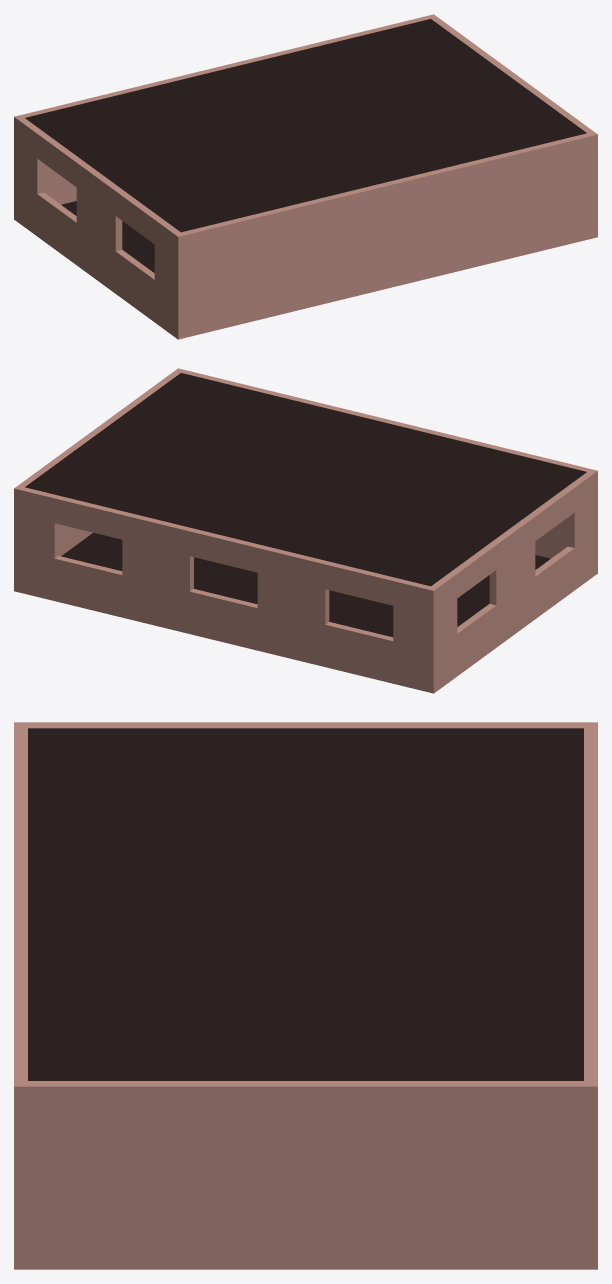
File: Room[JOINED].fbx
The picture shows the model from 3 angles, top to bottom: view 1: azimuth 30°, elevation 25°; view 2: azimuth 150°, elevation 25°; view 3: azimuth 270°, elevation 25°; orthographic projection. The views are drawn at different scales.
Parts seen in each view (by area): view 1: WallW; view 2: WallW; view 3: WallW.
Part boxes in pixels (x1,y1,x2,y2): WallW: [14, 14, 597, 339]; WallW: [14, 368, 597, 693]; WallW: [14, 722, 597, 1269].
Size of the model in its own units: 1240 by 290 by 840.
